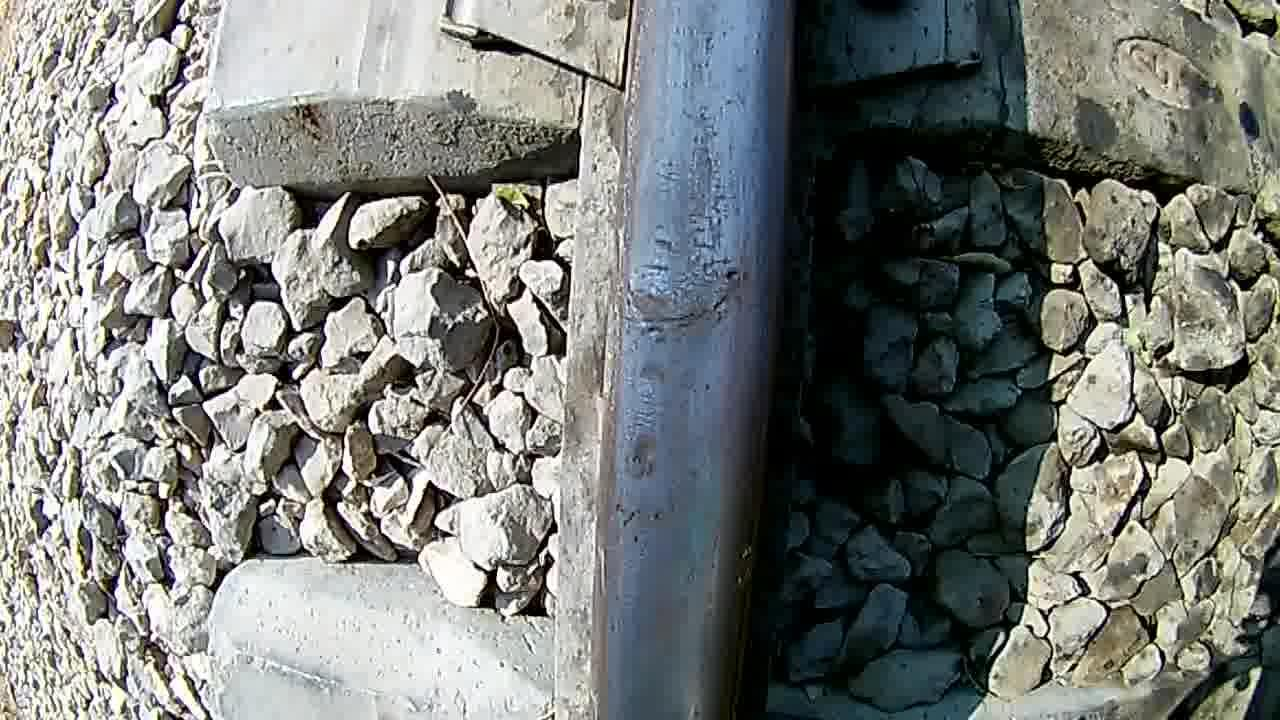crack: (571, 3, 793, 720)
